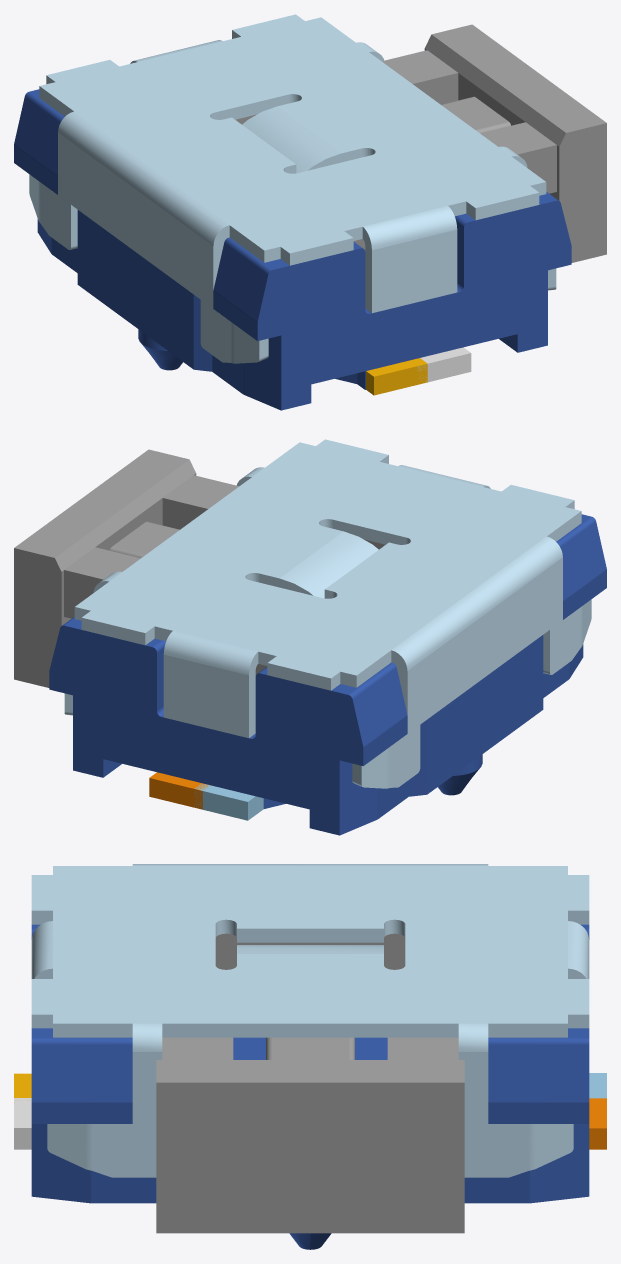
File: sfe-push_smd_horizontal_5x3mm.glb
The picture shows the model from 3 angles, top to bottom: view 1: azimuth 30°, elevation 25°; view 2: azimuth 150°, elevation 25°; view 3: azimuth 270°, elevation 25°; orthographic projection. The views are drawn at different scales.
Parts seen in each view (by area): view 1: 0.5833333333333334_0.75_0.9166666666666666_0, 0.08333333333333333_0.08333333333333333_0.4166666666666667_0, 0.4166666666666667_0.4166666666666667_0.4166666666666667_0, 0.9166666666666666_0.5_0_0, 0.8333333333333334_0.8333333333333334_0.8333333333333334_0.8; view 2: 0.5833333333333334_0.75_0.9166666666666666_0, 0.08333333333333333_0.08333333333333333_0.4166666666666667_0, 0.4166666666666667_0.4166666666666667_0.4166666666666667_0, 0.3333333333333333_0.5833333333333334_0.8333333333333334_0, 0.9166666666666666_0.25_0_0; view 3: 0.5833333333333334_0.75_0.9166666666666666_0, 0.4166666666666667_0.4166666666666667_0.4166666666666667_0, 0.08333333333333333_0.08333333333333333_0.4166666666666667_0, 0.9166666666666666_0.25_0_0, 0.8333333333333334_0.8333333333333334_0.8333333333333334_0.8.
Boxes of the visible parts, x1,y1,x2,y2 form: 0.5833333333333334_0.75_0.9166666666666666_0: (29, 14, 556, 363); 0.08333333333333333_0.08333333333333333_0.4166666666666667_0: (14, 89, 571, 410); 0.4166666666666667_0.4166666666666667_0.4166666666666667_0: (235, 24, 606, 262); 0.9166666666666666_0.5_0_0: (366, 358, 427, 395); 0.8333333333333334_0.8333333333333334_0.8333333333333334_0.8: (417, 347, 471, 382); 0.5833333333333334_0.75_0.9166666666666666_0: (64, 439, 591, 788); 0.08333333333333333_0.08333333333333333_0.4166666666666667_0: (49, 514, 606, 835); 0.4166666666666667_0.4166666666666667_0.4166666666666667_0: (14, 449, 385, 687); 0.3333333333333333_0.5833333333333334_0.8333333333333334_0: (194, 783, 263, 820); 0.9166666666666666_0.25_0_0: (149, 772, 209, 809); 0.5833333333333334_0.75_0.9166666666666666_0: (31, 864, 589, 1177); 0.4166666666666667_0.4166666666666667_0.4166666666666667_0: (156, 933, 464, 1233); 0.08333333333333333_0.08333333333333333_0.4166666666666667_0: (31, 924, 589, 1249); 0.9166666666666666_0.25_0_0: (589, 1098, 606, 1149); 0.8333333333333334_0.8333333333333334_0.8333333333333334_0.8: (14, 1098, 31, 1149).
Size of the model in its own units: 0.45 by 0.215 by 0.5.
